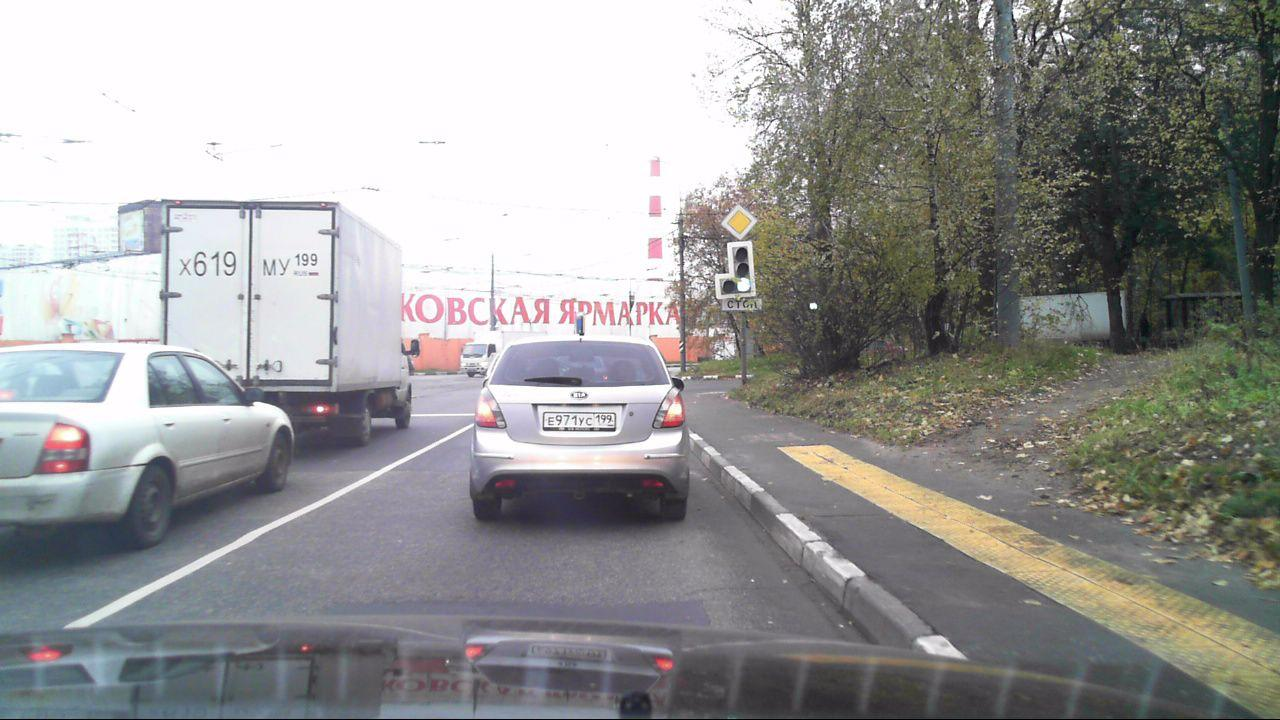2_1: (721, 204, 757, 240)
6_16: (720, 296, 764, 314)
